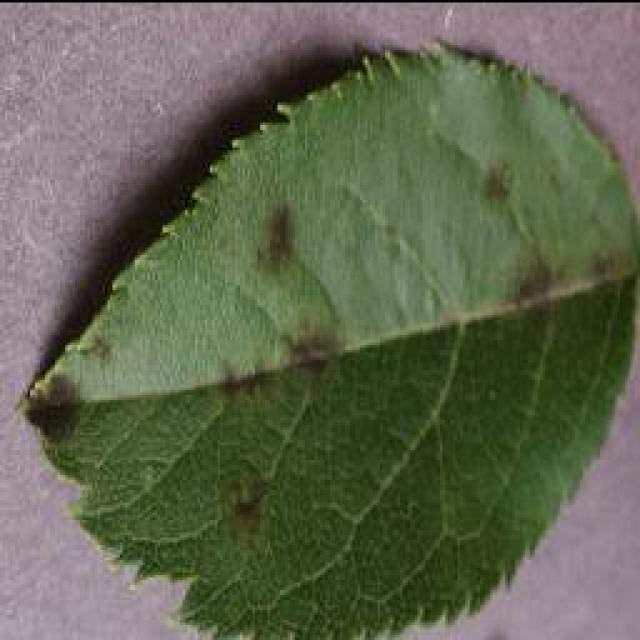apple scab disease: (18, 35, 638, 637)
